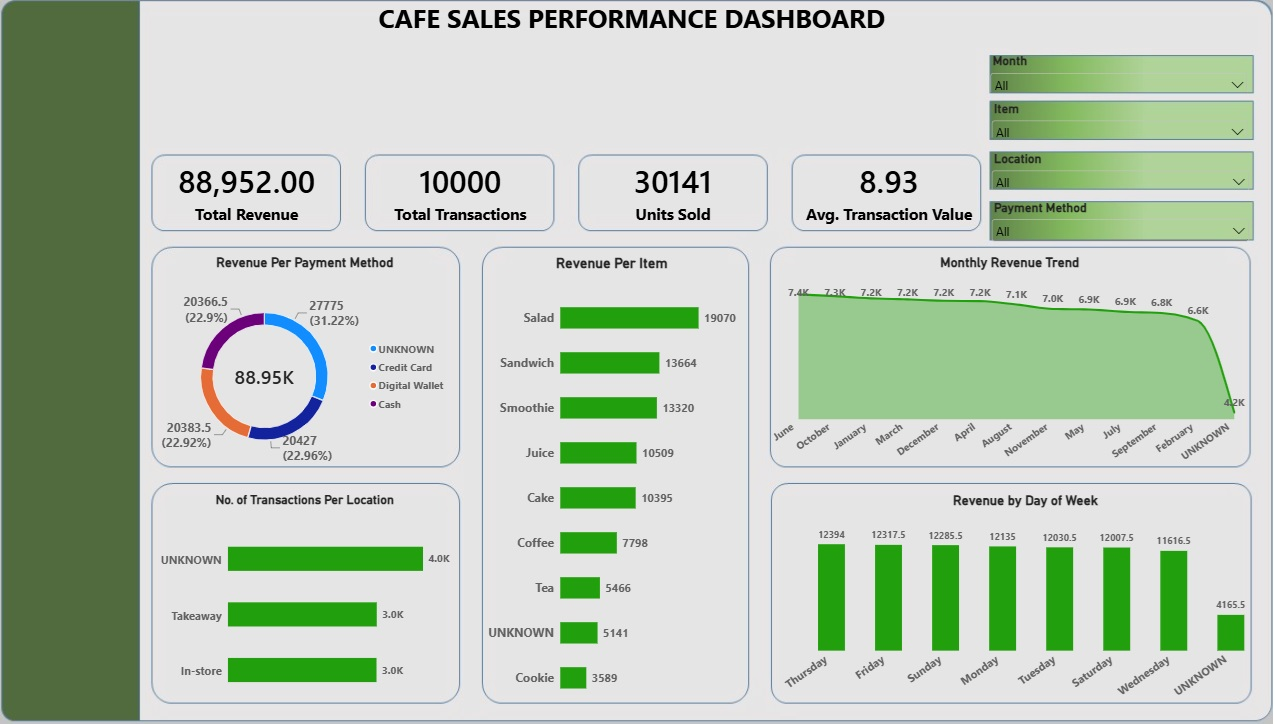

What the dashboard file says about the page in this screenshot:
{"tool":"powerbi","page":{"name":"Page 1","canvas":[1920,1080],"ordinal":0},"visuals":[{"type":"card","fields":{"Values":["Sum(Sheet1.Total Spent)"]},"box":[263.5,232.6,284,129.7],"z":0},{"type":"card","fields":{"Values":["CountNonNull(Sheet1.Transaction ID)"]},"box":[574.3,232.6,284,129.7],"z":1},{"type":"card","fields":{"Values":["Sum(Sheet1.Quantity)"]},"box":[881,232.6,284,129.7],"z":2},{"type":"card","fields":{"Values":["Avg(Sheet1.Total Spent)"]},"box":[1193.8,232.6,284,129.7],"z":3},{"type":"barChart","title":"Revenue Per Item","fields":{"Category":["Sheet1.Item"],"Y":["Sum(Sheet1.Total Spent)"]},"box":[738.9,376.7,393.1,685.4],"z":4},{"type":"areaChart","title":"Monthly Revenue Trend","fields":{"Category":["Sheet1.Month"],"Y":["Sum(Sheet1.Total Spent)"]},"box":[1149.1,376.4,723.9,343.8],"z":5},{"type":"columnChart","title":"Revenue by Day of Week","fields":{"Category":["Sheet1.Day of Week"],"Y":["Sum(Sheet1.Total Spent)"]},"box":[1165.4,720.2,736.5,342],"z":6},{"type":"donutChart","title":"Revenue Per Payment Method","fields":{"Category":["Sheet1.Payment Method"],"Y":["Sum(Sheet1.Total Spent)"]},"box":[264.2,376.4,452.4,343.8],"z":7},{"type":"clusteredBarChart","title":"No. of Transactions Per Location","fields":{"Category":["Sheet1.Location"],"Y":["CountNonNull(Sheet1.Transaction ID)"]},"box":[264.2,720.2,452.4,342],"z":8},{"type":"slicer","fields":{"Values":["Sheet1.Month"]},"box":[1478.5,99.5,381.8,56.1],"z":9},{"type":"slicer","fields":{"Values":["Sheet1.Item"]},"box":[1480.3,168.3,380,52.5],"z":10},{"type":"slicer","fields":{"Values":["Sheet1.Location"]},"box":[1480.3,240.7,381.8,56.1],"z":11},{"type":"slicer","fields":{"Values":["Sheet1.Payment Method"]},"box":[1480.3,311.3,381.8,65.1],"z":12},{"type":"textbox","box":[597.2,21.7,881.3,90.5],"z":13}]}

Visuals, with their boxes in screenshot pixels (x1, y1, x2, y2), scaled from the page's 1920x1080 canvas onto the 1275x724 screenshot:
card - Sum(Sheet1.Total Spent): box=[175, 156, 364, 243]
card - CountNonNull(Sheet1.Transaction ID): box=[381, 156, 570, 243]
card - Sum(Sheet1.Quantity): box=[585, 156, 774, 243]
card - Avg(Sheet1.Total Spent): box=[793, 156, 981, 243]
"Revenue Per Item" barChart: box=[491, 253, 752, 712]
"Monthly Revenue Trend" areaChart: box=[763, 252, 1244, 483]
"Revenue by Day of Week" columnChart: box=[774, 483, 1263, 712]
"Revenue Per Payment Method" donutChart: box=[175, 252, 476, 483]
"No. of Transactions Per Location" clusteredBarChart: box=[175, 483, 476, 712]
slicer - Sheet1.Month: box=[982, 67, 1235, 104]
slicer - Sheet1.Item: box=[983, 113, 1235, 148]
slicer - Sheet1.Location: box=[983, 161, 1237, 199]
slicer - Sheet1.Payment Method: box=[983, 209, 1237, 252]
textbox: box=[397, 15, 982, 75]
